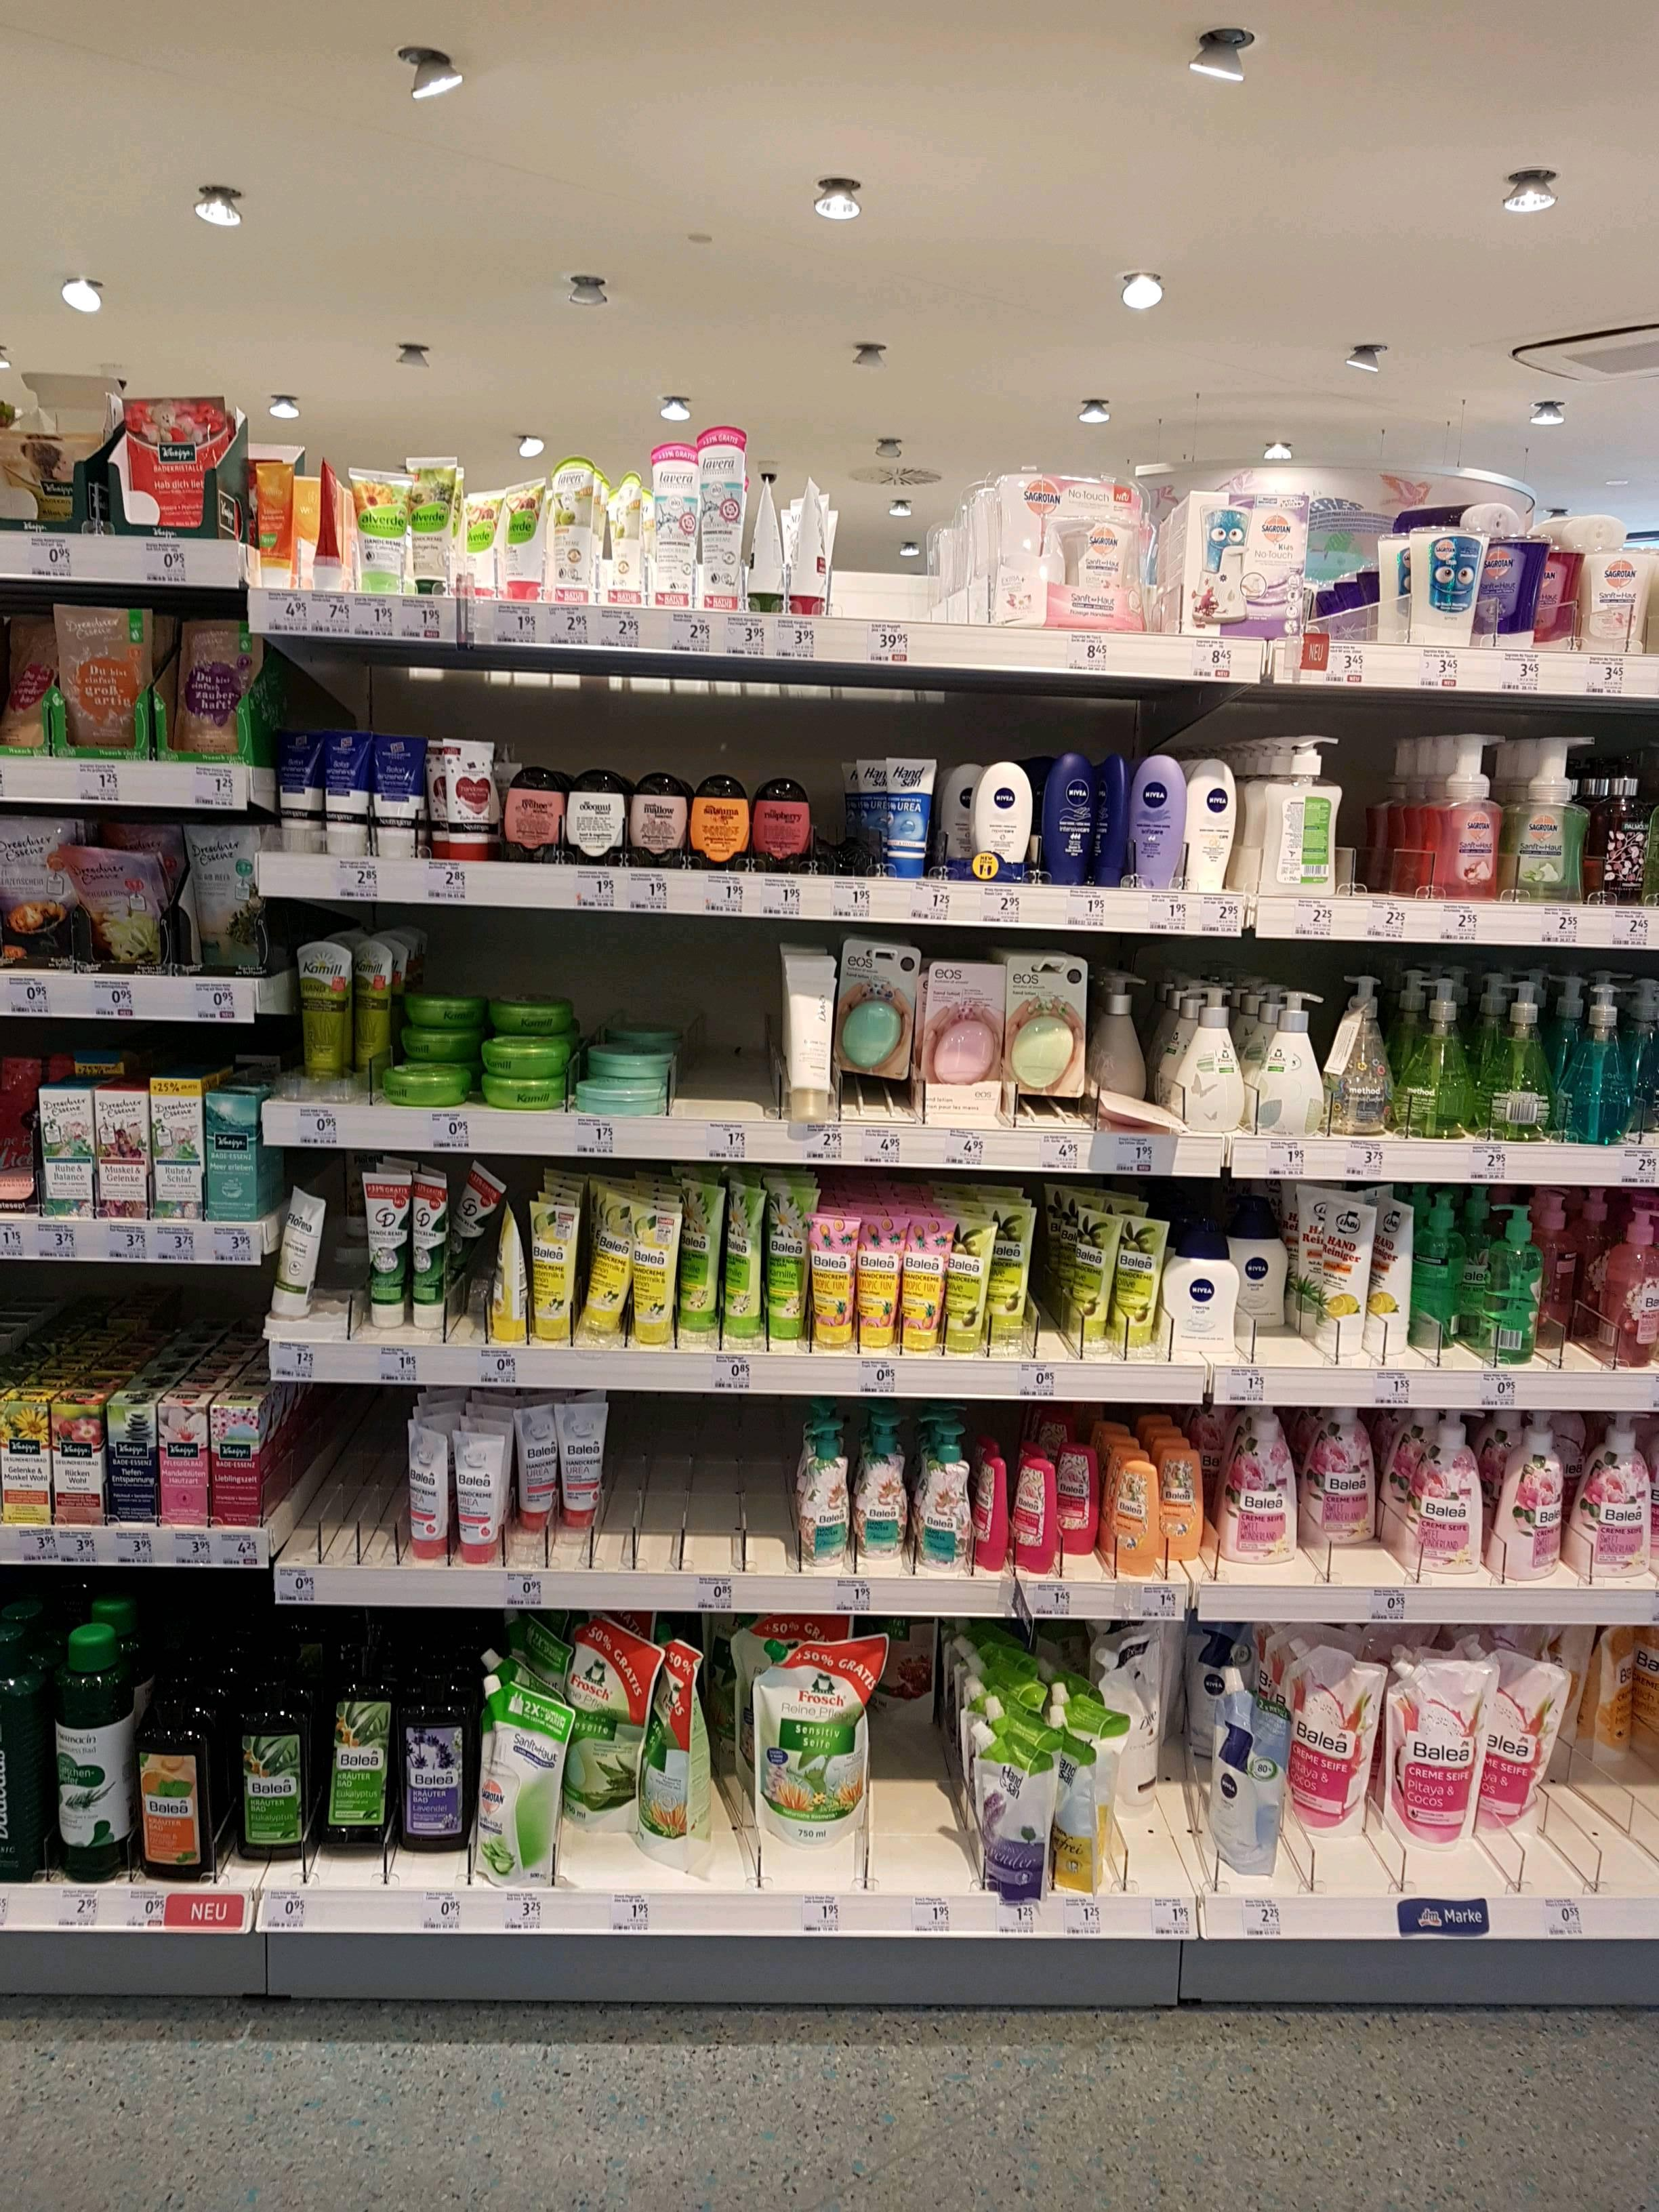misalignment: (648, 1637, 716, 1871), (75, 838, 169, 970), (784, 960, 836, 1113), (1091, 1069, 1187, 1134), (305, 455, 350, 590), (448, 1160, 500, 1273), (789, 479, 828, 615), (277, 1179, 314, 1318), (976, 1460, 1012, 1575), (753, 486, 784, 608), (500, 1223, 528, 1341)
